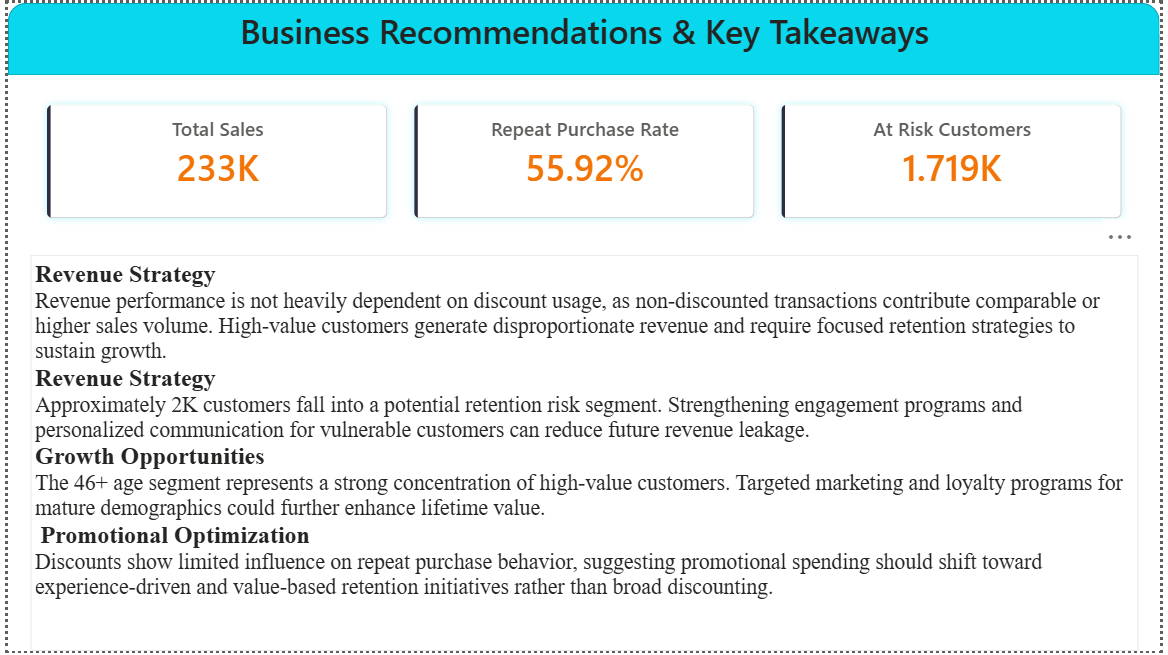

The dashboard page shown, as its layout file describes it:
{"tool":"powerbi","page":{"name":"Business Recommendations & Key Takeaways","canvas":[1280,720],"ordinal":4},"visuals":[{"type":"shape","box":[0,0,1279.5,80.3],"z":0},{"type":"cardVisual","fields":{"Data":["Calculated_Measures.Total Sales","Calculated_Measures.Repeat Purchase Rate","Calculated_Measures.At Risk Customers"]},"box":[24.2,96.9,1232.6,156],"z":1000},{"type":"textbox","box":[24.2,280.1,1232.6,439.1],"z":2000},{"type":"textbox","box":[222.6,0,834.3,80.3],"z":3000}]}

Visuals, with their boxes in screenshot pixels (x1, y1, x2, y2), scaled from the page's 1280x720 canvas onto the 1168x655 screenshot:
shape: (0, 0, 1167, 73)
cardVisual - Calculated_Measures.Total Sales x Calculated_Measures.Repeat Purchase Rate: (22, 88, 1147, 230)
textbox: (22, 255, 1147, 654)
textbox: (203, 0, 964, 73)
